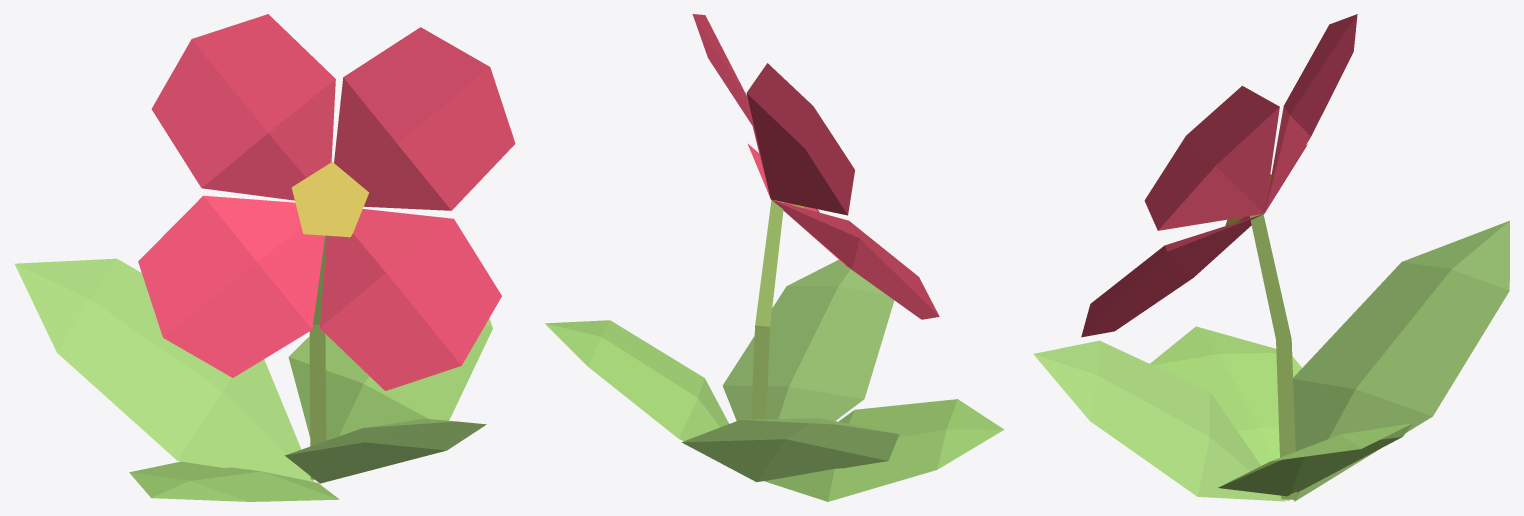
File: Flower_c_OneS_15.fbx
3 views of the same model, side by side, from view 1: azimuth 30°, elevation 25°; view 2: azimuth 150°, elevation 25°; view 3: azimuth 270°, elevation 25° (orthographic). The views are drawn at different scales.
Parts seen in each view (by area): view 1: Flower_c_OneS_15; view 2: Flower_c_OneS_15; view 3: Flower_c_OneS_15.
Part boxes in pixels (x1,y1,x2,y2): Flower_c_OneS_15: (15, 14, 515, 501); Flower_c_OneS_15: (545, 14, 1004, 501); Flower_c_OneS_15: (1033, 14, 1509, 501).
Size of the model in its own units: 35.15 by 38.54 by 35.94.
